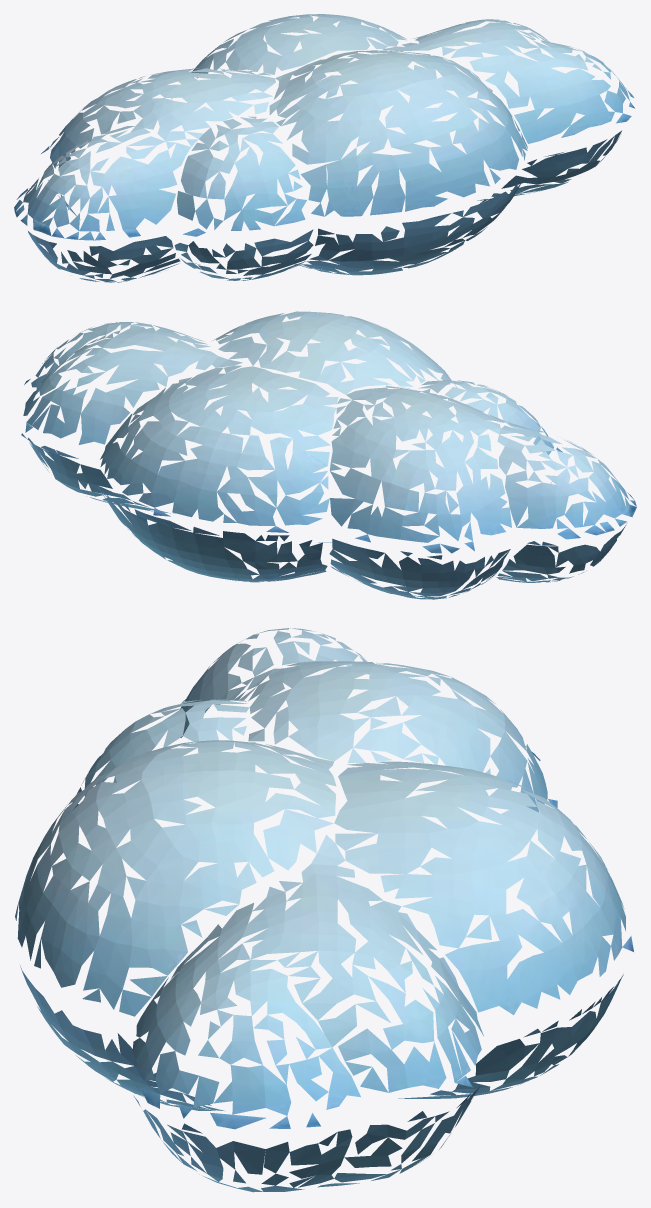
The model's file is cloud_floor.glb.
The picture shows the model from 3 angles, top to bottom: view 1: azimuth 30°, elevation 25°; view 2: azimuth 150°, elevation 25°; view 3: azimuth 270°, elevation 25°; orthographic projection. The views are drawn at different scales.
Parts seen in each view (by area): view 1: world.001; view 2: world.001; view 3: world.001.
Boxes of the visible parts, x1,y1,x2,y2 form: world.001: (14,14,634,282); world.001: (21,311,636,599); world.001: (15,628,633,1192).
Bounding box in the file's own units: 0.9994 × 0.3152 × 0.5757.
Materials: 1 (1 with a texture image).
